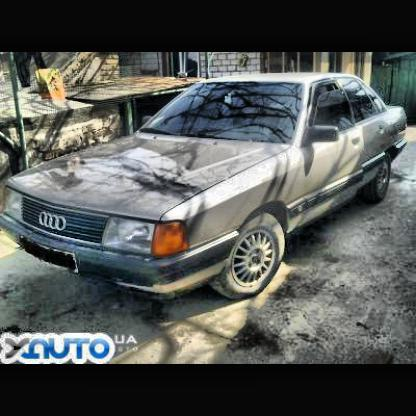Audi 100 Sedan 1994: (2, 72, 408, 302)
